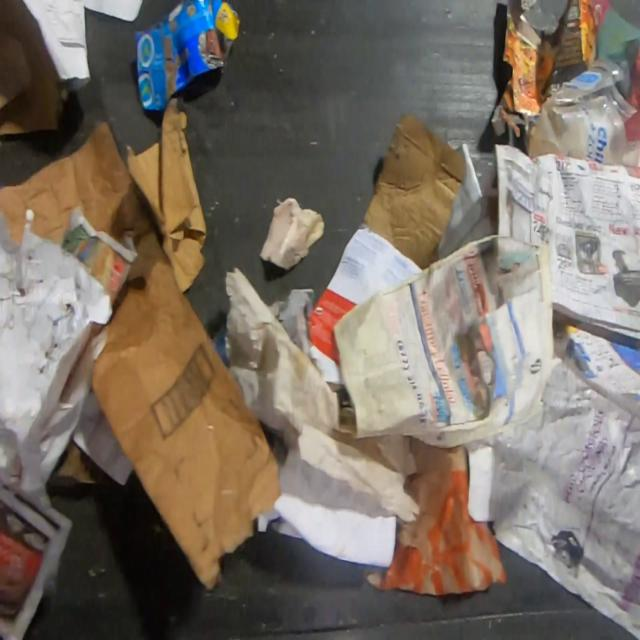cardboard: (0, 118, 280, 594), (362, 110, 468, 272), (124, 94, 208, 294), (137, 0, 248, 112), (0, 0, 61, 135)
rigid_plastic: (526, 59, 640, 168)
